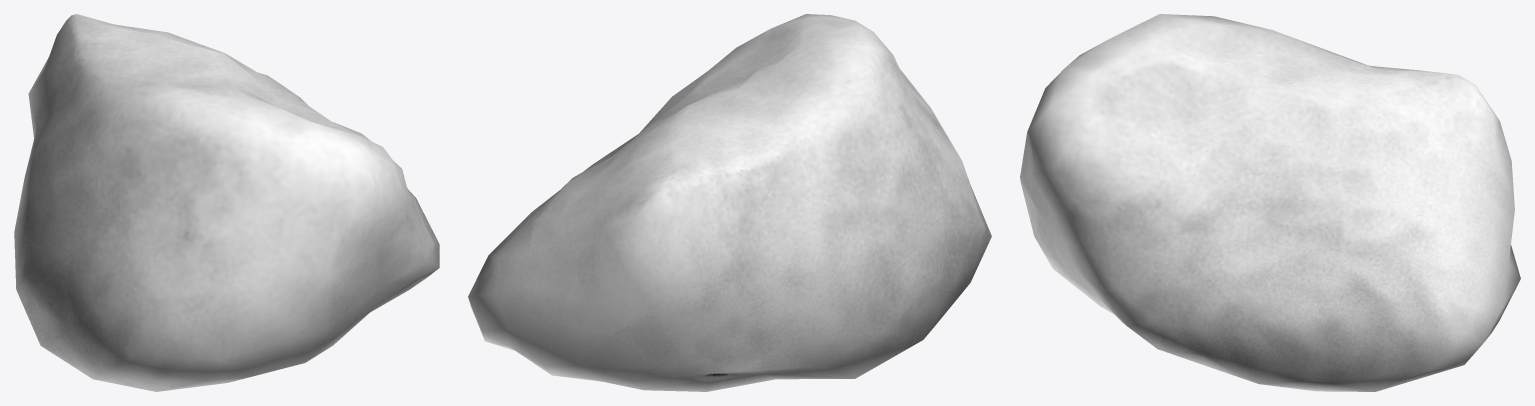
The model's file is Rock6.fbx.
3 views of the same model, side by side, from view 1: azimuth 30°, elevation 25°; view 2: azimuth 150°, elevation 25°; view 3: azimuth 270°, elevation 25° (orthographic). The views are drawn at different scales.
Parts seen in each view (by area): view 1: Cube.008; view 2: Cube.008; view 3: Cube.008.
Part boxes in pixels (x1,y1,x2,y2): Cube.008: (14,14,439,391); Cube.008: (468,14,991,391); Cube.008: (1020,14,1520,391).
Size of the model in its own units: 125 by 90.02 by 143.
